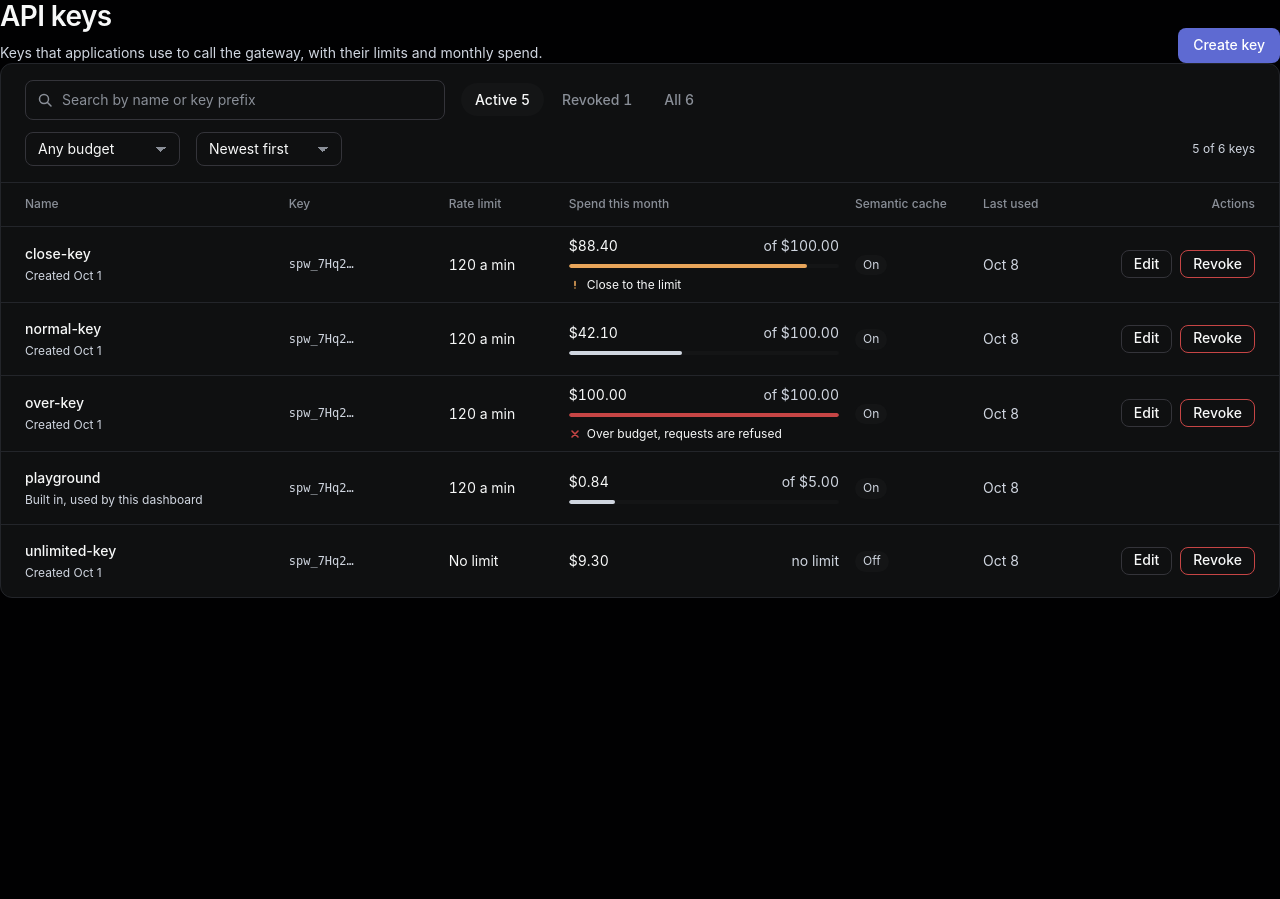
Test: KeysView as an admin › creates a key and shows its secret once
Click the button "Create key".
click(1229, 45)  # box [1178,28,1279,63]
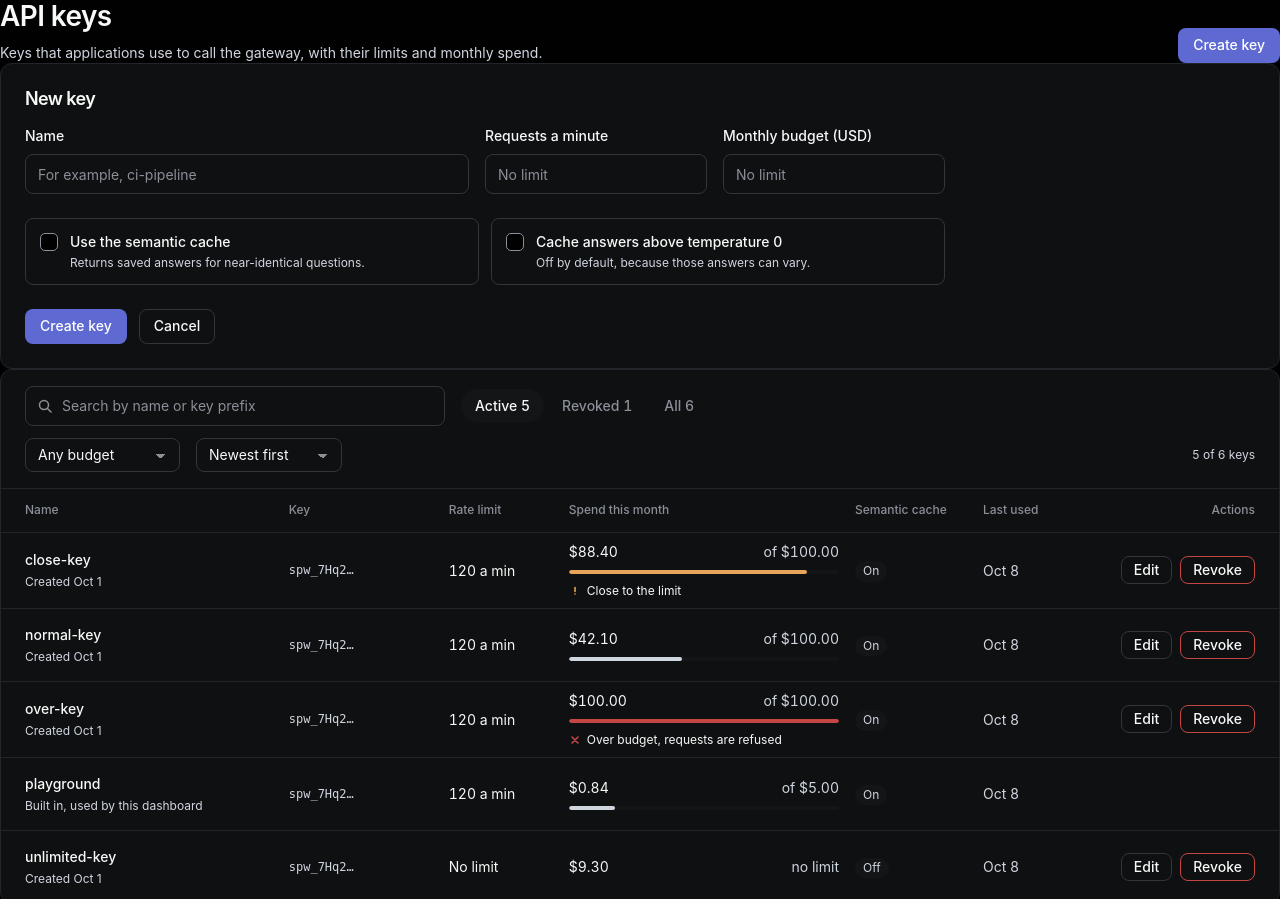
Type "ci-pipeline" into the field labelled "Name".
click(247, 174); type("ci-pipeline")  # box [25,154,469,194]
Type "60" into the field labelled "Requests a minute".
click(596, 174); type("60")  # box [485,154,707,194]
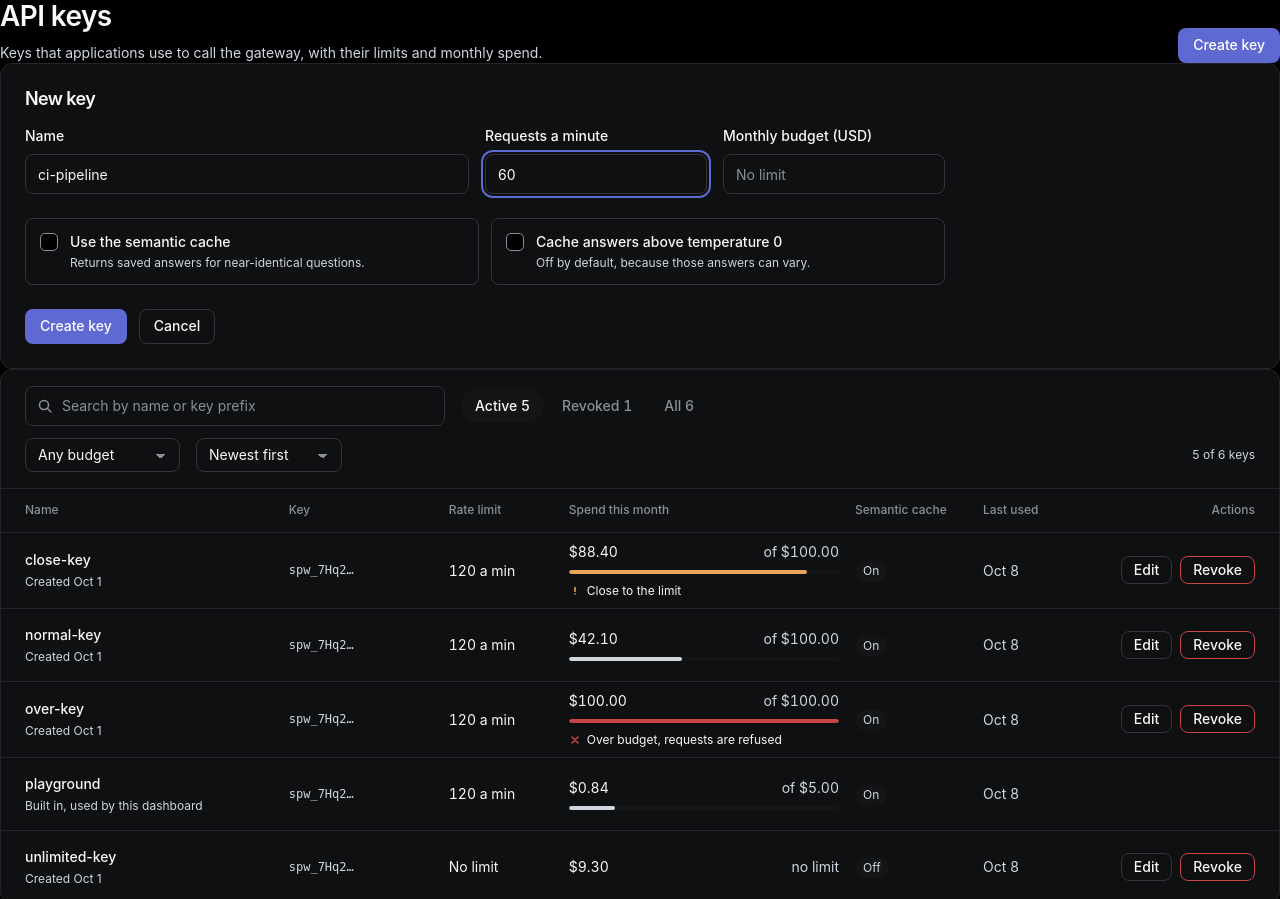
Type "30" into the field labelled "Monthly budget (USD)".
click(834, 174); type("30")  # box [723,154,945,194]
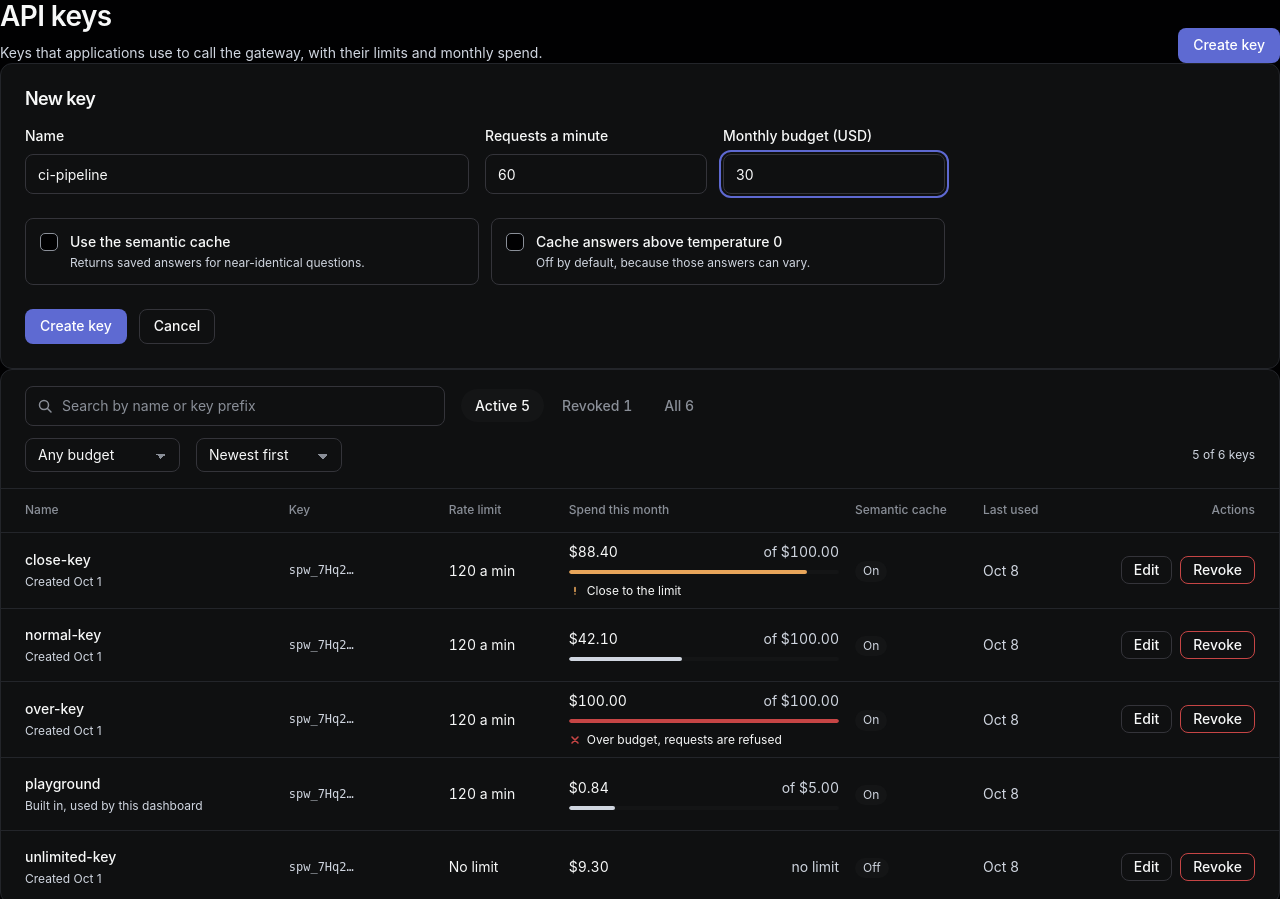
Click the checkbox labelled "Use the semantic cache".
click(49, 242)  # box [40,233,58,251]
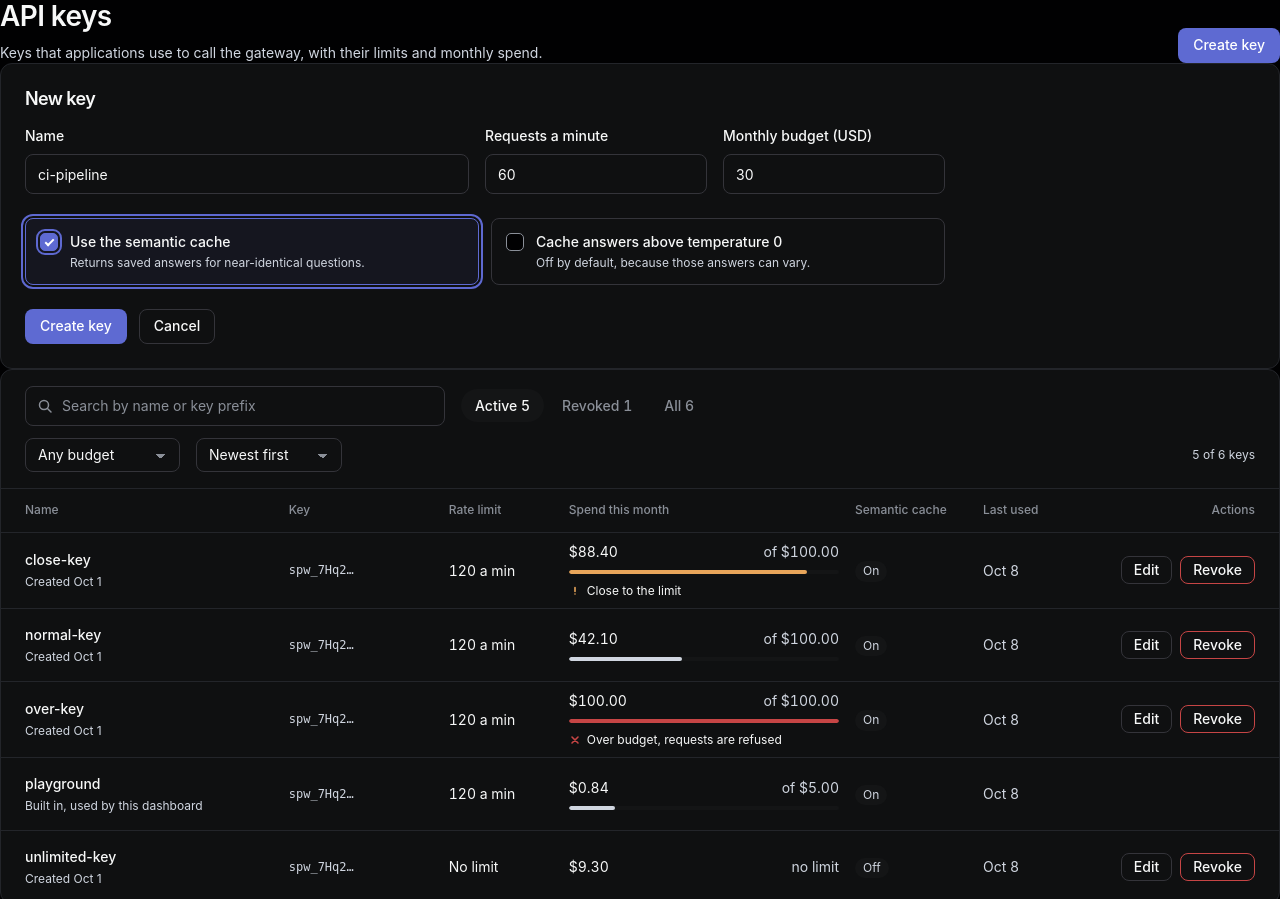
Click the button "Create key" below "Use the semantic cache".
click(76, 327)  # box [25,309,127,344]
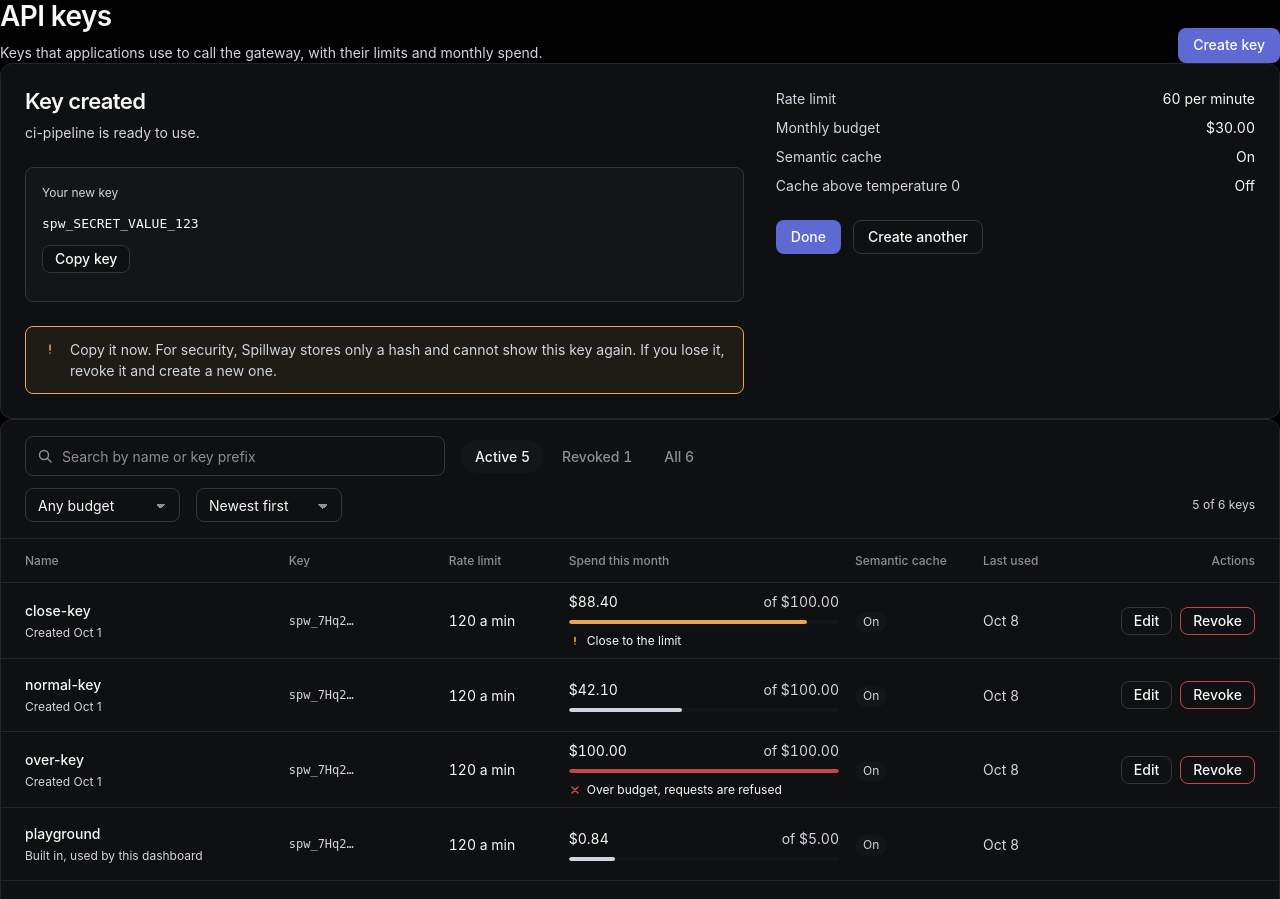
Check: the text with test id "secret" reads "spw_SECRET_VALUE_123", box [42,216,198,231]
Check: the text "cannot show this key again" is shown, box [70,342,725,380]
Click the button "Done".
click(808, 237)  # box [776,220,841,254]
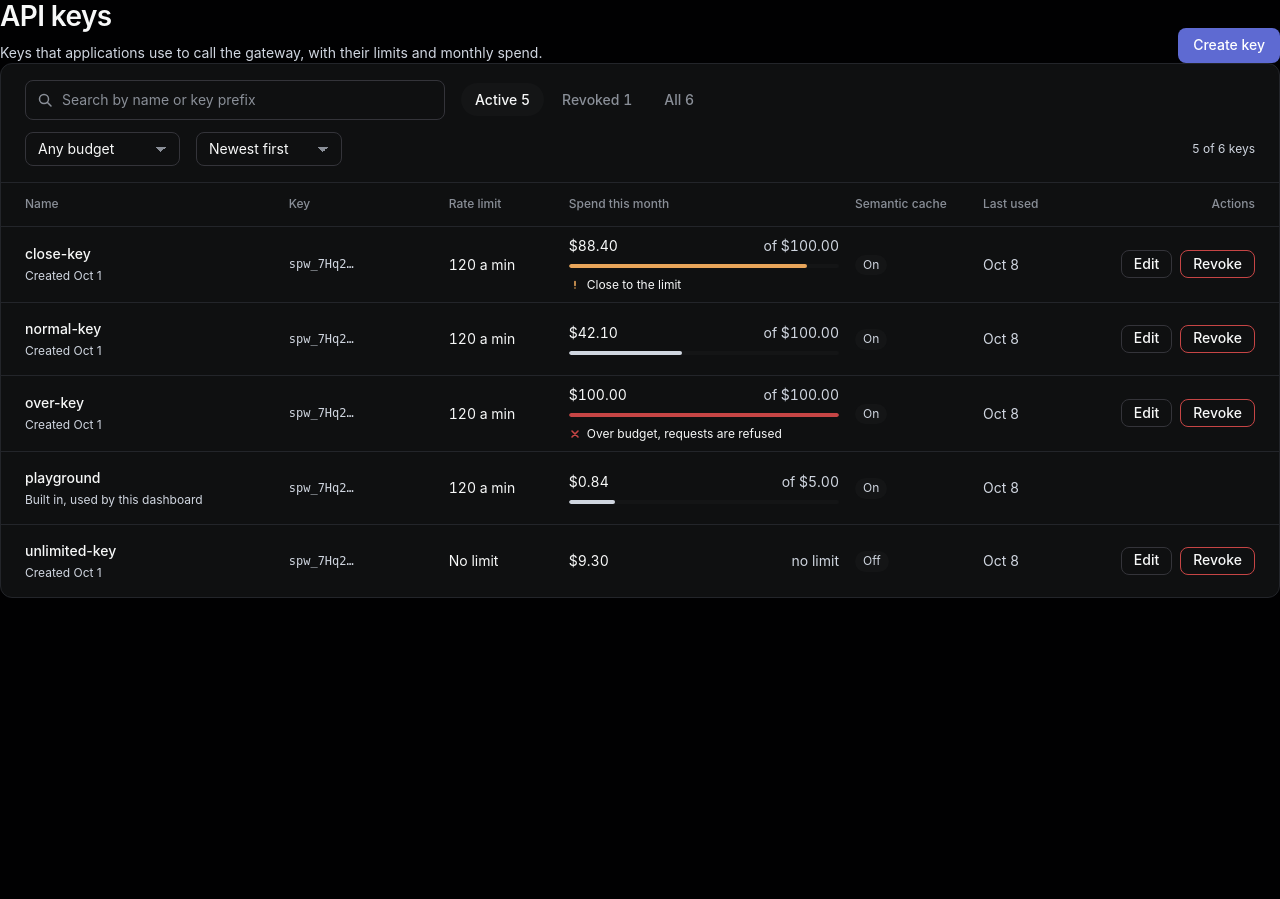
Check: the text with test id "secret" is gone
Check: the text "spw_SECRET_VALUE_123" is gone
